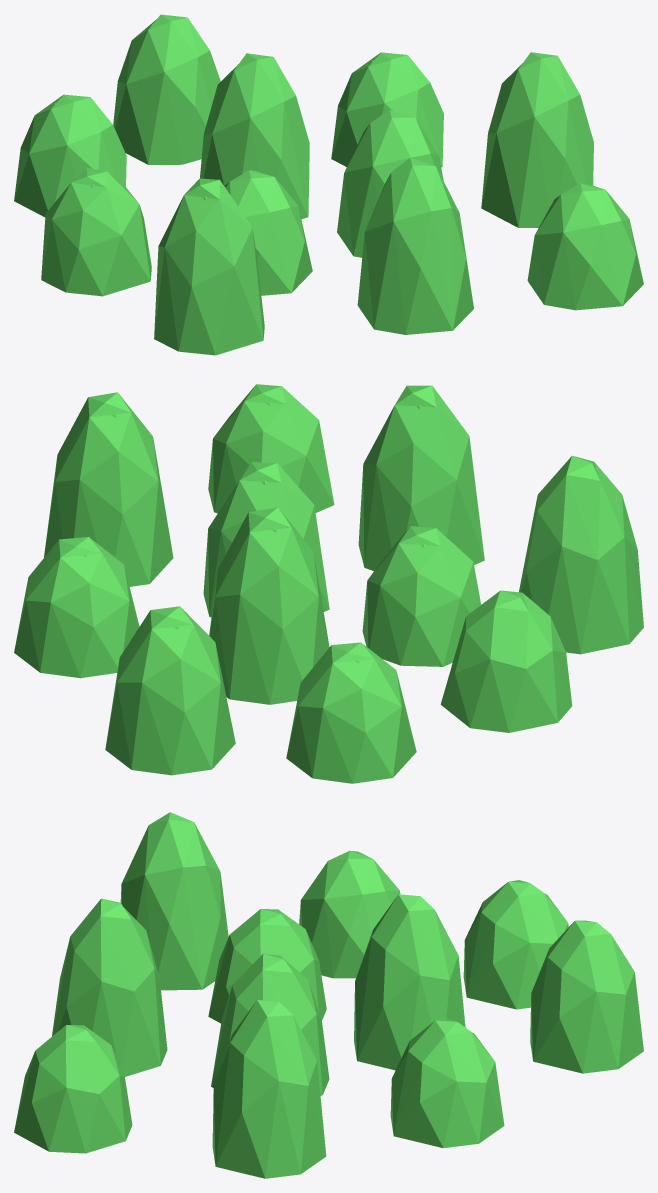
Rendered from grass2.gltf.
3 views of the same model, one above another, from view 1: azimuth 30°, elevation 25°; view 2: azimuth 150°, elevation 25°; view 3: azimuth 270°, elevation 25° (orthographic). The views are drawn at different scales.
Parts seen in each view (by area): view 1: Sphere.073_leaves_0; view 2: Sphere.073_leaves_0; view 3: Sphere.073_leaves_0.
Part boxes in pixels (<box>): Sphere.073_leaves_0: <box>14,14,643,355</box>; Sphere.073_leaves_0: <box>14,384,643,783</box>; Sphere.073_leaves_0: <box>14,812,643,1178</box>.
Bounding box in the file's own units: 0.4467 × 0.1279 × 0.4794.
